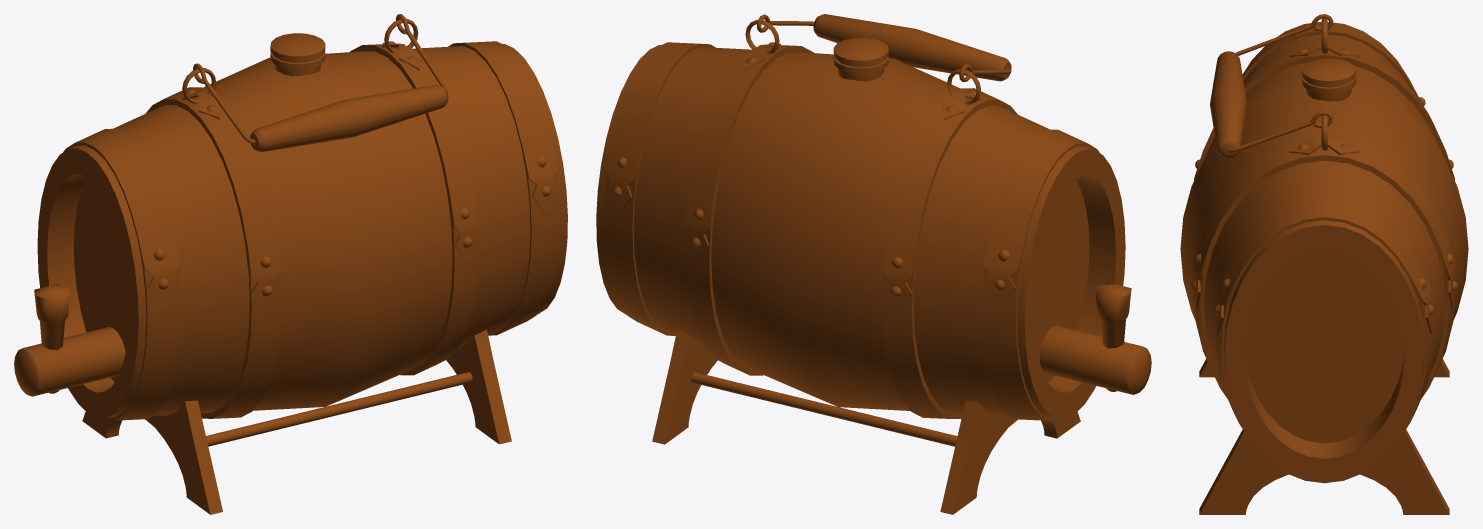
The picture shows the model from 3 angles, left to right: view 1: azimuth 30°, elevation 25°; view 2: azimuth 150°, elevation 25°; view 3: azimuth 270°, elevation 25°; orthographic projection. The views are drawn at different scales.
Visible parts, largest first — view 1: barrel-bochka-low.001_Окружность.042; view 2: barrel-bochka-low.001_Окружность.042; view 3: barrel-bochka-low.001_Окружность.042.
Part boxes in pixels (x1,y1,x2,y2): barrel-bochka-low.001_Окружность.042: [14, 14, 567, 514]; barrel-bochka-low.001_Окружность.042: [596, 14, 1151, 514]; barrel-bochka-low.001_Окружность.042: [1180, 14, 1468, 514].
Size of the model in its own units: 2 by 1.5 by 1.02.
